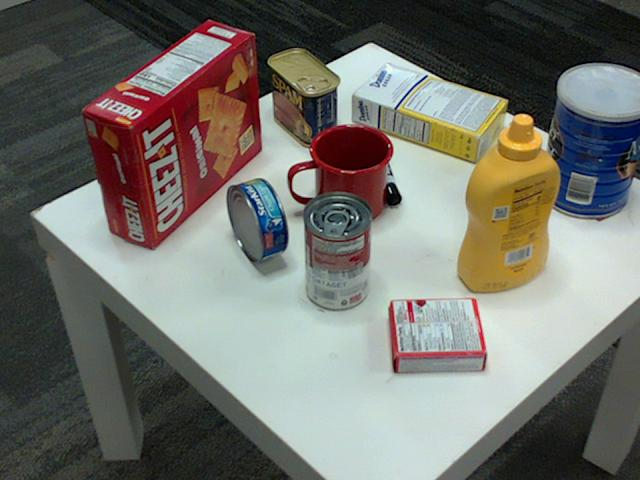cracker_box: (81, 17, 261, 246)
gelatin_box: (386, 299, 487, 373)
large_marker: (366, 138, 400, 205)
master_chef_can: (539, 64, 639, 218)
mug: (290, 121, 394, 224)
mustard_bottle: (456, 114, 561, 290)
potted_meat_can: (265, 50, 338, 147)
sugar_box: (352, 63, 510, 162)
tomato_soup_can: (303, 192, 373, 310)
tuna_fish_can: (227, 178, 288, 263)
